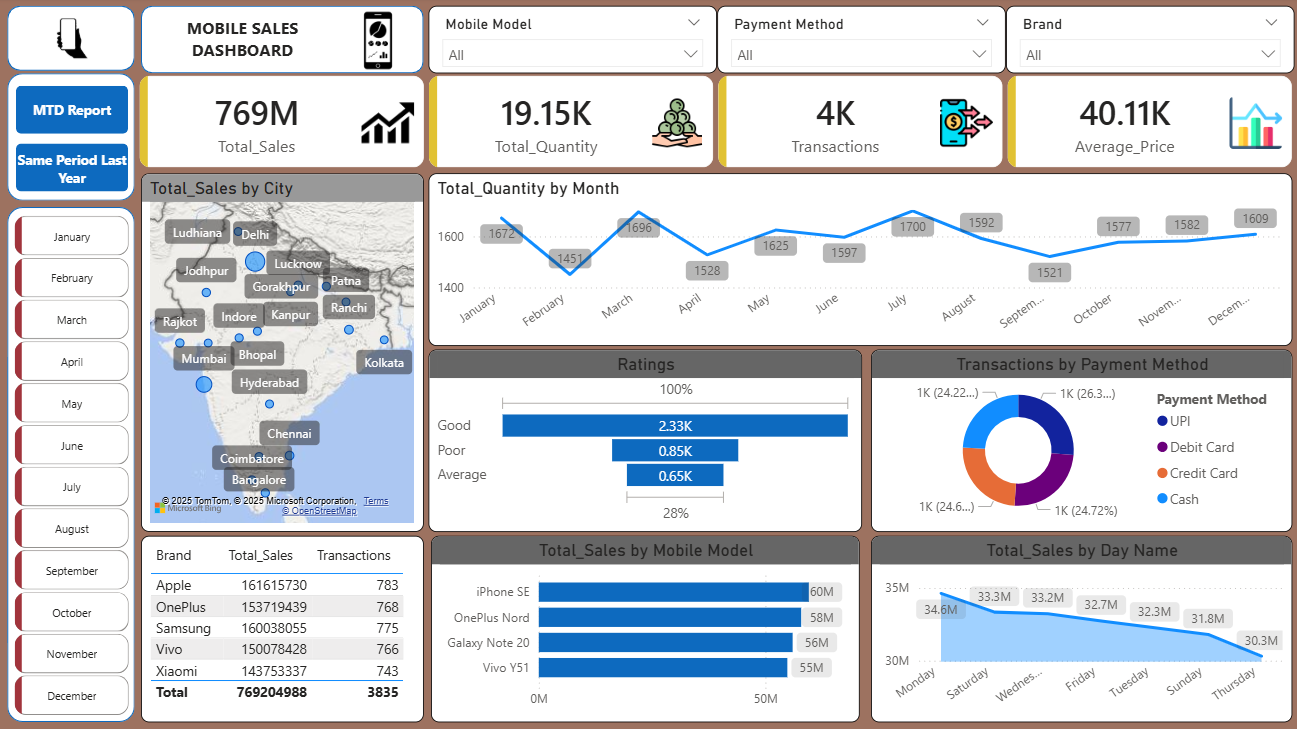

The dashboard page shown, as its layout file describes it:
{"tool":"powerbi","page":{"name":"Dashboard","canvas":[1280,720],"ordinal":0},"visuals":[{"type":"shape","box":[11,8.6,125.2,63.8],"z":0},{"type":"image","box":[11,8.6,125.2,63.8],"z":1000},{"type":"shape","box":[11,74.8,125.2,125.2],"z":2000},{"type":"shape","box":[11,206.1,125.2,505.5],"z":3000},{"type":"advancedSlicerVisual","fields":{"Values":["Custom_Calendar.Date.Variation.Date Hierarchy.Month"]},"box":[13.5,209.8,122.7,504.3],"z":4000},{"type":"cardVisual","fields":{"Data":["Mobile_Sales_Data.Total_Sales","Mobile_Sales_Data.Total_Quantity","Mobile_Sales_Data.Transactions","Mobile_Sales_Data.Average_Price"]},"box":[136.2,72.4,1143.6,100.6],"z":5000},{"type":"slicer","fields":{"Values":["Mobile_Sales_Data.Mobile Model"]},"box":[424.5,8.6,283.4,66.3],"z":6000},{"type":"slicer","fields":{"Values":["Mobile_Sales_Data.Payment Method"]},"box":[708,8.6,283.4,66.3],"z":7000},{"type":"slicer","fields":{"Values":["Mobile_Sales_Data.Brand"]},"box":[991.4,8.6,283.4,66.3],"z":8000},{"type":"shape","box":[142,8.6,277.3,66.3],"z":9000},{"type":"textbox","box":[146,13.5,192,56.4],"z":10000},{"type":"image","box":[334,13.5,82,58],"z":11000},{"type":"map","fields":{"Category":["Mobile_Sales_Data.City"],"Size":["Mobile_Sales_Data.Total_Sales"]},"box":[142.3,173,277.3,352.1],"z":12000},{"type":"lineChart","fields":{"Category":["Custom_Calendar.Date.Variation.Date Hierarchy.Month"],"Y":["Mobile_Sales_Data.Total_Quantity"]},"box":[424.5,173,847.9,169.3],"z":13000},{"type":"funnel","title":"Ratings","fields":{"Y":["CountNonNull(Mobile_Sales_Data.Customer Ratings)"],"Category":["Mobile_Sales_Data.Rating"]},"box":[424.5,346,425.8,179],"z":14000},{"type":"donutChart","fields":{"Category":["Mobile_Sales_Data.Payment Method"],"Y":["Mobile_Sales_Data.Transactions"]},"box":[858.9,346,413.5,179.1],"z":15000},{"type":"clusteredBarChart","fields":{"Category":["Mobile_Sales_Data.Mobile Model"],"Y":["Mobile_Sales_Data.Total_Sales"]},"box":[427,528.8,420.9,182.8],"z":16000},{"type":"areaChart","fields":{"Y":["Mobile_Sales_Data.Total_Sales"],"Category":["Custom_Calendar.Day Name"]},"box":[858.9,528.8,413.5,182.8],"z":17000},{"type":"tableEx","fields":{"Values":["Mobile_Sales_Data.Brand","Mobile_Sales_Data.Total_Sales","Mobile_Sales_Data.Transactions"]},"box":[142.3,528.8,277.3,182.8],"z":18000},{"type":"pageNavigator","box":[19.6,87.1,110.4,104.3],"z":18001}]}

Visuals, with their boxes in screenshot pixels (x1, y1, x2, y2), scaled from the page's 1280x720 canvas onto the 1297x729 screenshot:
shape: bbox=(11, 9, 138, 73)
image: bbox=(11, 9, 138, 73)
shape: bbox=(11, 76, 138, 202)
shape: bbox=(11, 209, 138, 720)
advancedSlicerVisual - Custom_Calendar.Date.Variation.Date Hierarchy.Month: bbox=(14, 212, 138, 723)
cardVisual - Mobile_Sales_Data.Total_Sales x Mobile_Sales_Data.Total_Quantity: bbox=(138, 73, 1296, 175)
slicer - Mobile_Sales_Data.Mobile Model: bbox=(430, 9, 717, 76)
slicer - Mobile_Sales_Data.Payment Method: bbox=(717, 9, 1005, 76)
slicer - Mobile_Sales_Data.Brand: bbox=(1005, 9, 1292, 76)
shape: bbox=(144, 9, 425, 76)
textbox: bbox=(148, 14, 342, 71)
image: bbox=(338, 14, 422, 72)
map - Mobile_Sales_Data.City x Mobile_Sales_Data.Total_Sales: bbox=(144, 175, 425, 532)
lineChart - Custom_Calendar.Date.Variation.Date Hierarchy.Month x Mobile_Sales_Data.Total_Quantity: bbox=(430, 175, 1289, 347)
"Ratings" funnel: bbox=(430, 350, 862, 532)
donutChart - Mobile_Sales_Data.Payment Method x Mobile_Sales_Data.Transactions: bbox=(870, 350, 1289, 532)
clusteredBarChart - Mobile_Sales_Data.Mobile Model x Mobile_Sales_Data.Total_Sales: bbox=(433, 535, 859, 720)
areaChart - Mobile_Sales_Data.Total_Sales x Custom_Calendar.Day Name: bbox=(870, 535, 1289, 720)
tableEx - Mobile_Sales_Data.Brand x Mobile_Sales_Data.Total_Sales: bbox=(144, 535, 425, 720)
pageNavigator: bbox=(20, 88, 132, 194)
